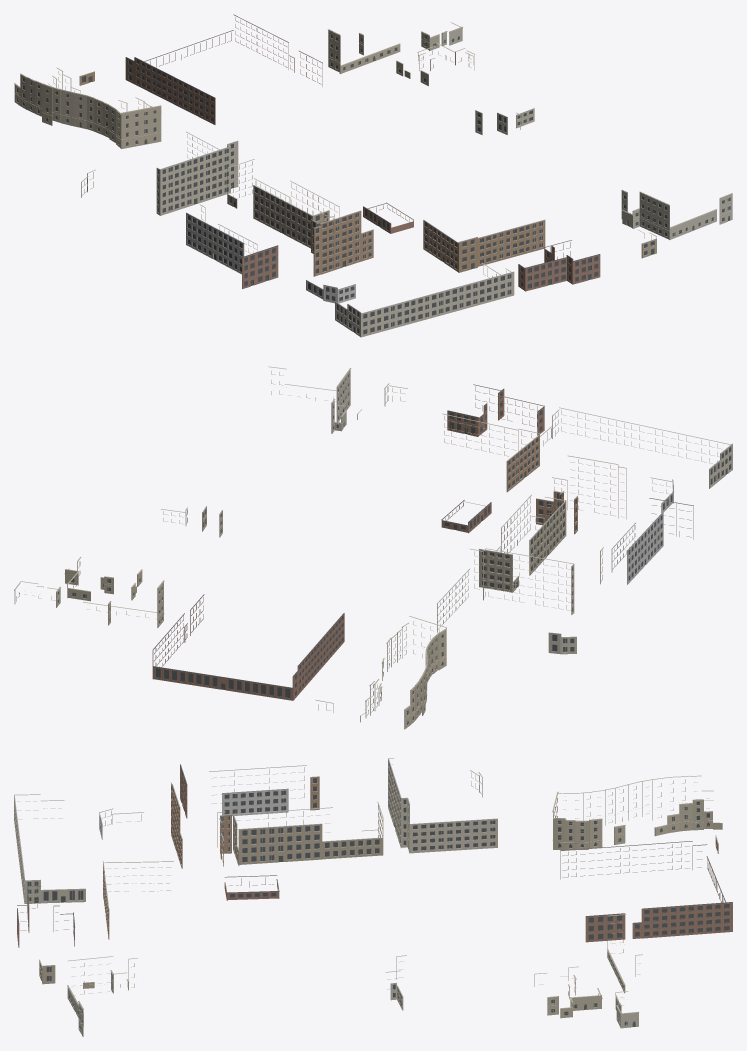
The picture shows the model from 3 angles, top to bottom: view 1: azimuth 30°, elevation 25°; view 2: azimuth 150°, elevation 25°; view 3: azimuth 270°, elevation 25°; orthographic projection. The views are drawn at different scales.
Visible parts, largest first — view 1: f:way/26378100, f:way/26987091, f:way/26378138, f:way/26987093, f:way/137029318, f:way/132558145, f:way/26987089, f:way/137040688, f:way/164110937, f:way/164110938, f:way/132558144, f:way/206376736 (+5 smaller); view 2: f:way/137029318, f:way/26987089, f:way/26378100, f:way/26378138, f:way/164110937, f:way/26987093, f:way/26987091, f:way/132558145, f:way/135449870, f:way/137040688, f:way/137040684, f:way/771358344; view 3: f:way/137029318, f:way/26987089, f:way/26378138, f:way/26378100, f:way/164110937, f:way/26987091, f:way/132558145, f:way/137040684, f:way/137040688, f:way/771358344, f:way/26987093.
Part boxes in pixels (bbox=[...]): f:way/26378100: bbox=[14, 67, 161, 148]; f:way/26987091: bbox=[335, 263, 514, 337]; f:way/26378138: bbox=[81, 131, 238, 215]; f:way/26987093: bbox=[423, 219, 545, 272]; f:way/137029318: bbox=[125, 14, 322, 124]; f:way/132558145: bbox=[311, 210, 373, 276]; f:way/26987089: bbox=[227, 159, 339, 248]; f:way/137040688: bbox=[621, 189, 732, 239]; f:way/164110937: bbox=[186, 212, 257, 274]; f:way/164110938: bbox=[242, 245, 278, 288]; f:way/132558144: bbox=[518, 257, 566, 291]; f:way/206376736: bbox=[328, 29, 400, 73]; f:way/137029318: bbox=[152, 594, 344, 700]; f:way/26987089: bbox=[479, 494, 566, 592]; f:way/26378100: bbox=[360, 616, 446, 729]; f:way/26378138: bbox=[437, 548, 576, 654]; f:way/164110937: bbox=[611, 511, 663, 584]; f:way/26987093: bbox=[442, 413, 539, 492]; f:way/26987091: bbox=[540, 407, 732, 488]; f:way/132558145: bbox=[536, 455, 626, 534]; f:way/135449870: bbox=[447, 384, 504, 436]; f:way/137040688: bbox=[268, 366, 351, 433]; f:way/137040684: bbox=[64, 557, 142, 601]; f:way/771358344: bbox=[441, 500, 491, 533]; f:way/137029318: bbox=[560, 841, 732, 942]; f:way/26987089: bbox=[233, 802, 383, 865]; f:way/26378138: bbox=[388, 758, 497, 853]; f:way/26378100: bbox=[552, 775, 722, 850]; f:way/164110937: bbox=[209, 765, 306, 816]; f:way/26987091: bbox=[14, 794, 85, 903]; f:way/132558145: bbox=[171, 782, 231, 868]; f:way/137040684: bbox=[534, 966, 602, 1018]; f:way/137040688: bbox=[67, 956, 137, 1036]; f:way/771358344: bbox=[224, 875, 279, 900]; f:way/26987093: bbox=[102, 861, 173, 939].
Size of the model in its own units: 200 by 23 by 247.
